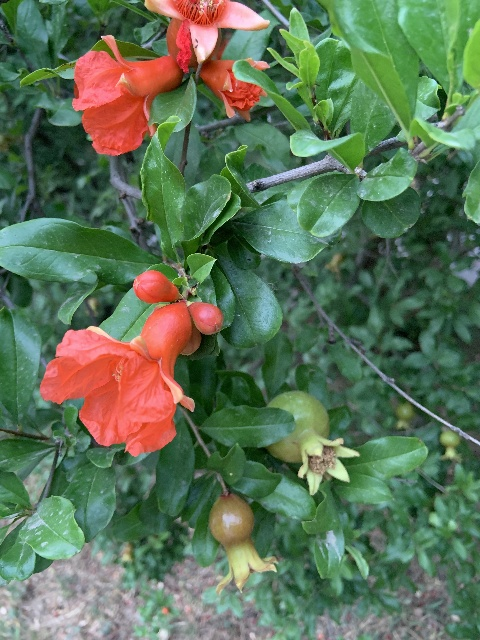bud: (133, 270, 178, 304), (189, 302, 223, 334), (180, 325, 200, 355)
early-fruit: (209, 493, 279, 594)
flower: (40, 300, 196, 458), (72, 35, 182, 155), (144, 0, 267, 72), (200, 57, 270, 121)
mid-growth: (265, 390, 360, 496), (438, 429, 463, 462), (392, 400, 416, 430)
